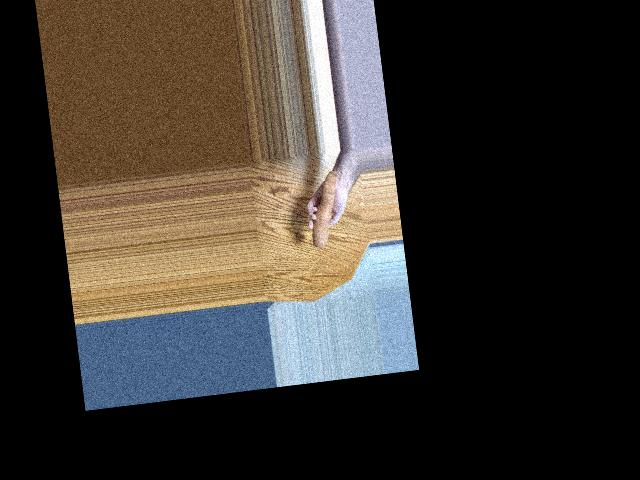sweet_potato: (301, 179, 343, 260)
